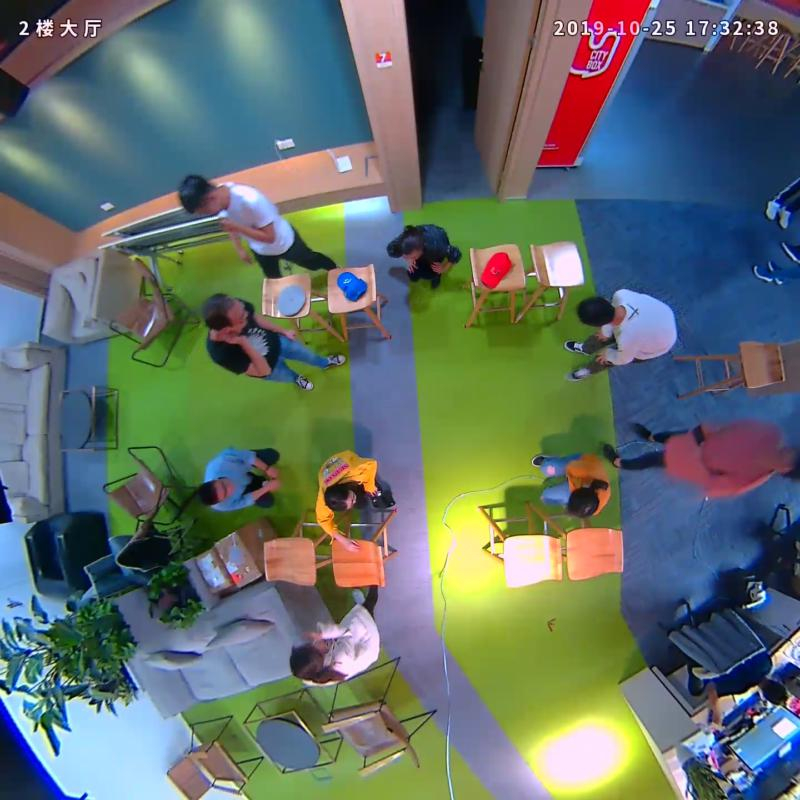head: (194, 286, 253, 336), (281, 637, 333, 683), (176, 171, 224, 218), (572, 289, 623, 332), (560, 482, 606, 523), (189, 473, 233, 511), (394, 230, 435, 270), (319, 481, 364, 514), (771, 444, 800, 480)
